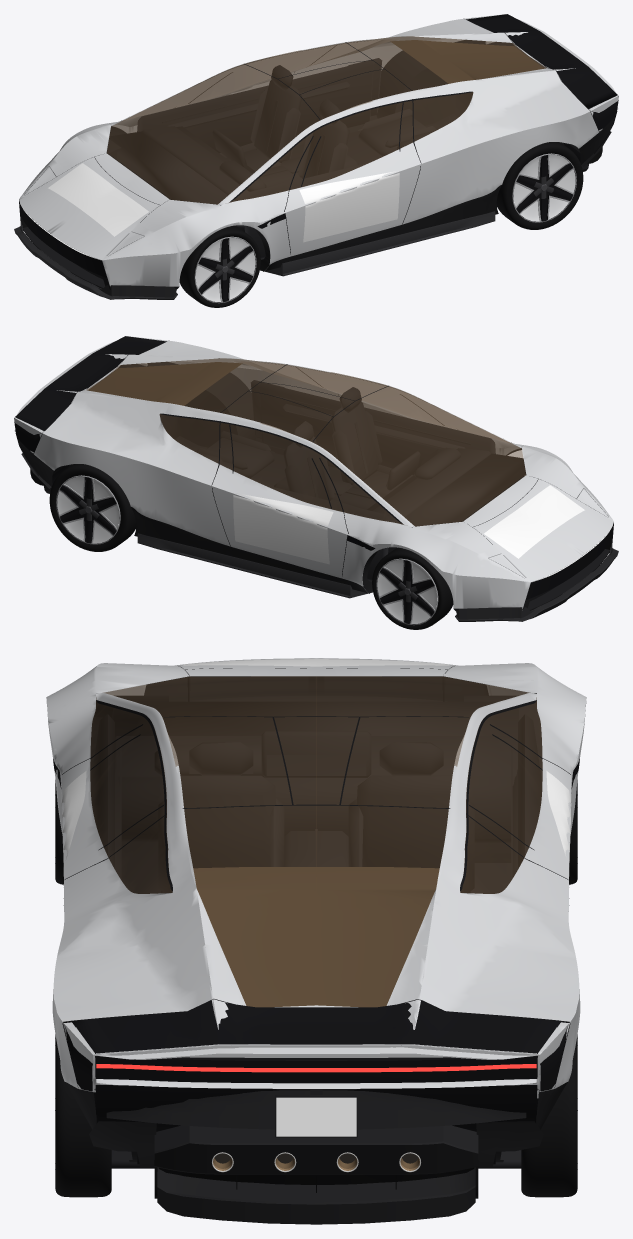
File: car_lod1.glb
3 renders of one model, top to bottom at view 1: azimuth 30°, elevation 25°; view 2: azimuth 150°, elevation 25°; view 3: azimuth 270°, elevation 25°, orthographic. The views are drawn at different scales.
Parts seen in each view (by area): view 1: Body, Decals, Wheel_RL_mesh, Wheel_FL_mesh, Thrusters, WingWell; view 2: Body, Decals, Wheel_RR_mesh, Wheel_FR_mesh, Thrusters, WingWell; view 3: Body, Thrusters, WingWell, Decals, Wheel_RR_mesh, Wheel_RL_mesh, Wheel_FL_mesh.
Part boxes in pixels (x1,y1,x2,y2): Body: (14, 14, 618, 299); Decals: (48, 80, 399, 242); Wheel_RL_mesh: (496, 142, 583, 229); Wheel_FL_mesh: (179, 225, 260, 307); Thrusters: (390, 40, 611, 171); WingWell: (466, 14, 618, 129); Body: (14, 336, 618, 621); Decals: (233, 402, 584, 564); Wheel_RR_mesh: (49, 464, 136, 551); Wheel_FR_mesh: (372, 547, 453, 629); Thrusters: (21, 362, 242, 493); WingWell: (14, 336, 166, 451); Body: (46, 658, 586, 1168); Thrusters: (89, 867, 543, 1224); WingWell: (62, 1000, 570, 1091); Decals: (61, 659, 571, 1136); Wheel_RR_mesh: (521, 1034, 577, 1197); Wheel_RL_mesh: (55, 1034, 111, 1197); Wheel_FL_mesh: (55, 717, 102, 884).
Bounding box in the file's own units: 5.12 × 1.35 × 2.27.
